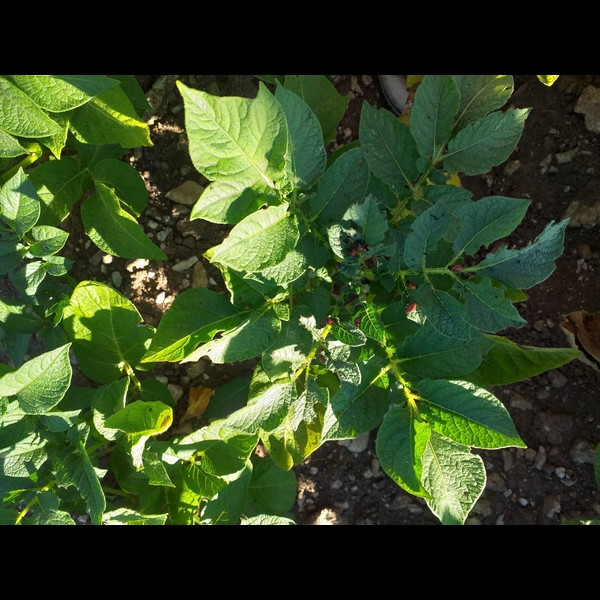hrosc: (404, 301, 417, 316), (347, 245, 360, 258), (447, 263, 462, 274)
